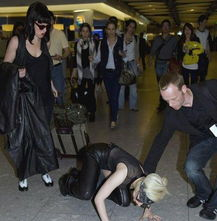10+: (4, 4, 217, 215)
down: (57, 141, 168, 221)
